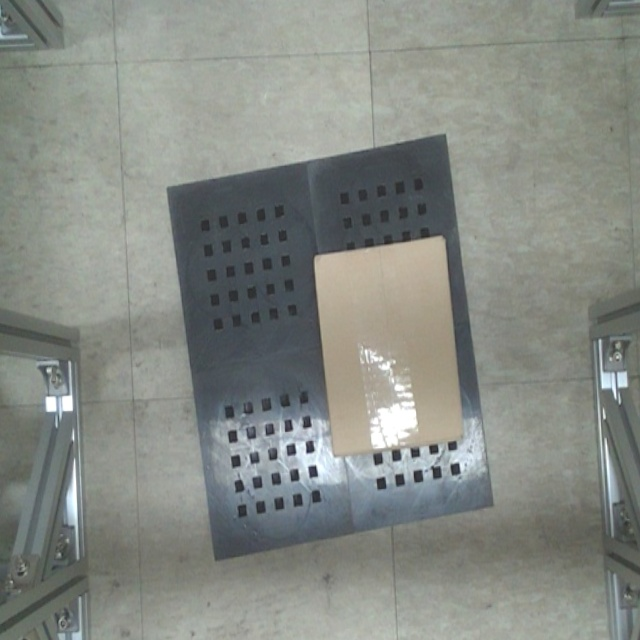box: (311, 230, 465, 458)
pallet: (155, 116, 515, 573)
